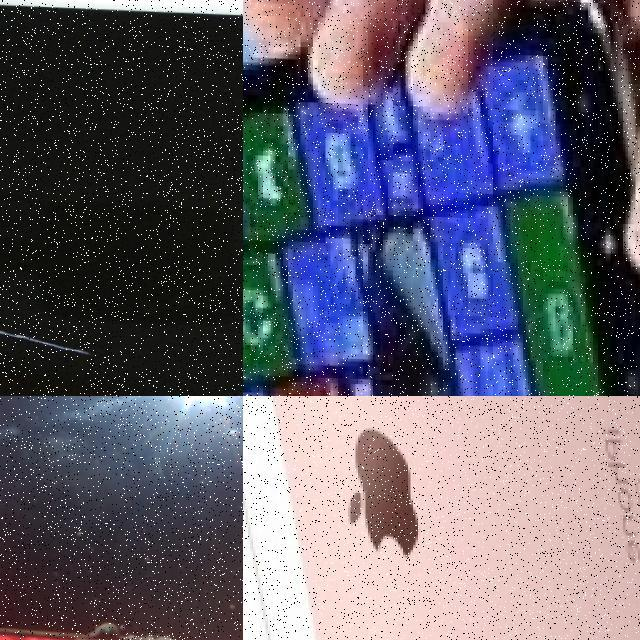scratch: (0, 323, 91, 354)
screen crack: (67, 613, 243, 640)
